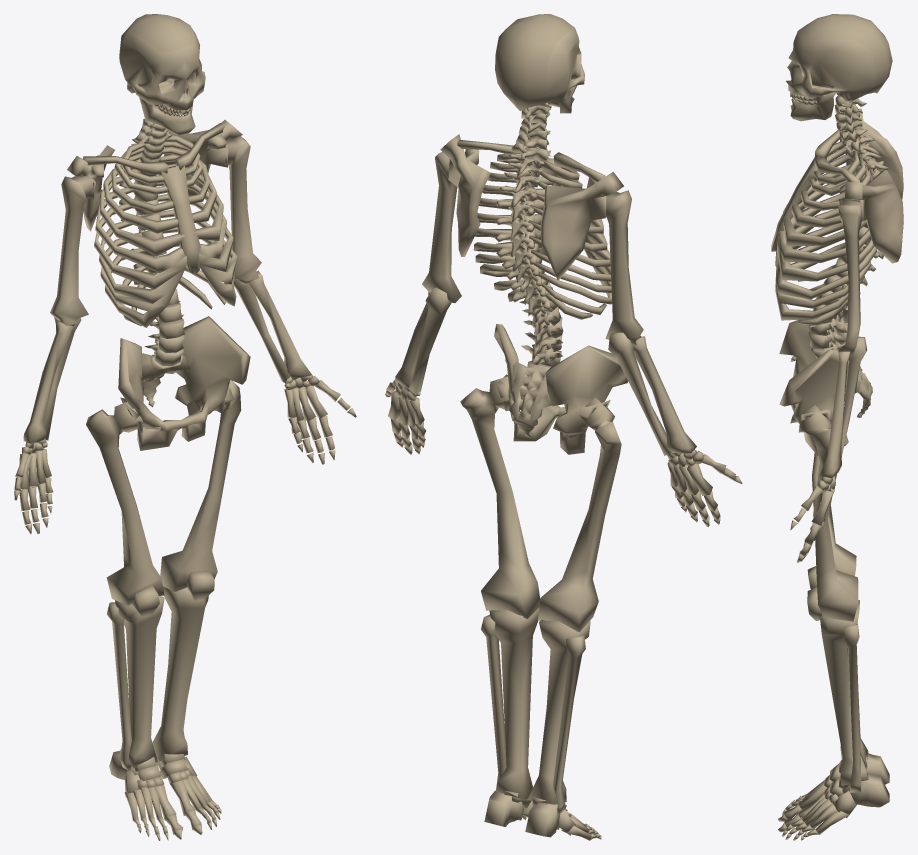
File: creature-skeleton-mobile.glb
3 views of the same model, side by side, from view 1: azimuth 30°, elevation 25°; view 2: azimuth 150°, elevation 25°; view 3: azimuth 270°, elevation 25° (orthographic). The views are drawn at different scales.
Visible parts, largest first — view 1: creature-skeleton; view 2: creature-skeleton; view 3: creature-skeleton.
Boxes of the visible parts, bbox=[...] form: creature-skeleton: bbox=[14, 14, 356, 840]; creature-skeleton: bbox=[385, 14, 742, 840]; creature-skeleton: bbox=[771, 14, 903, 840].
Size of the model in its own units: 0.7183 by 1.6 by 0.2372.
Materials: 1 (1 with a texture image).
